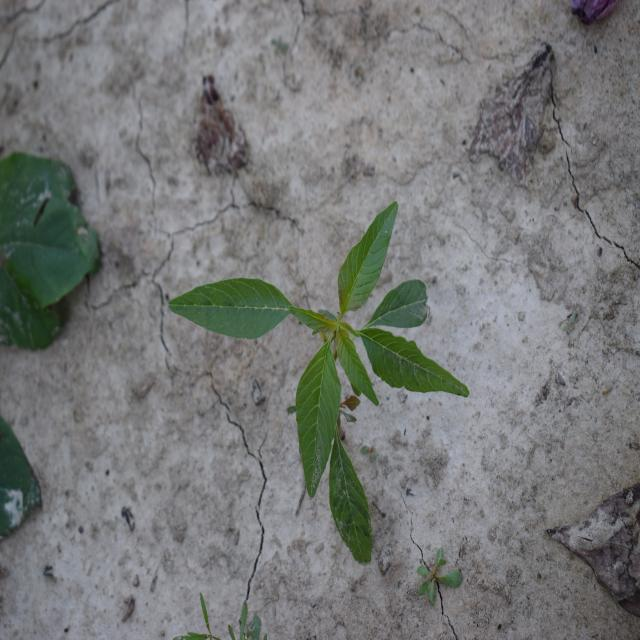Carpetweed: (414, 544, 464, 606)
Waterhemp: (167, 200, 471, 570)
